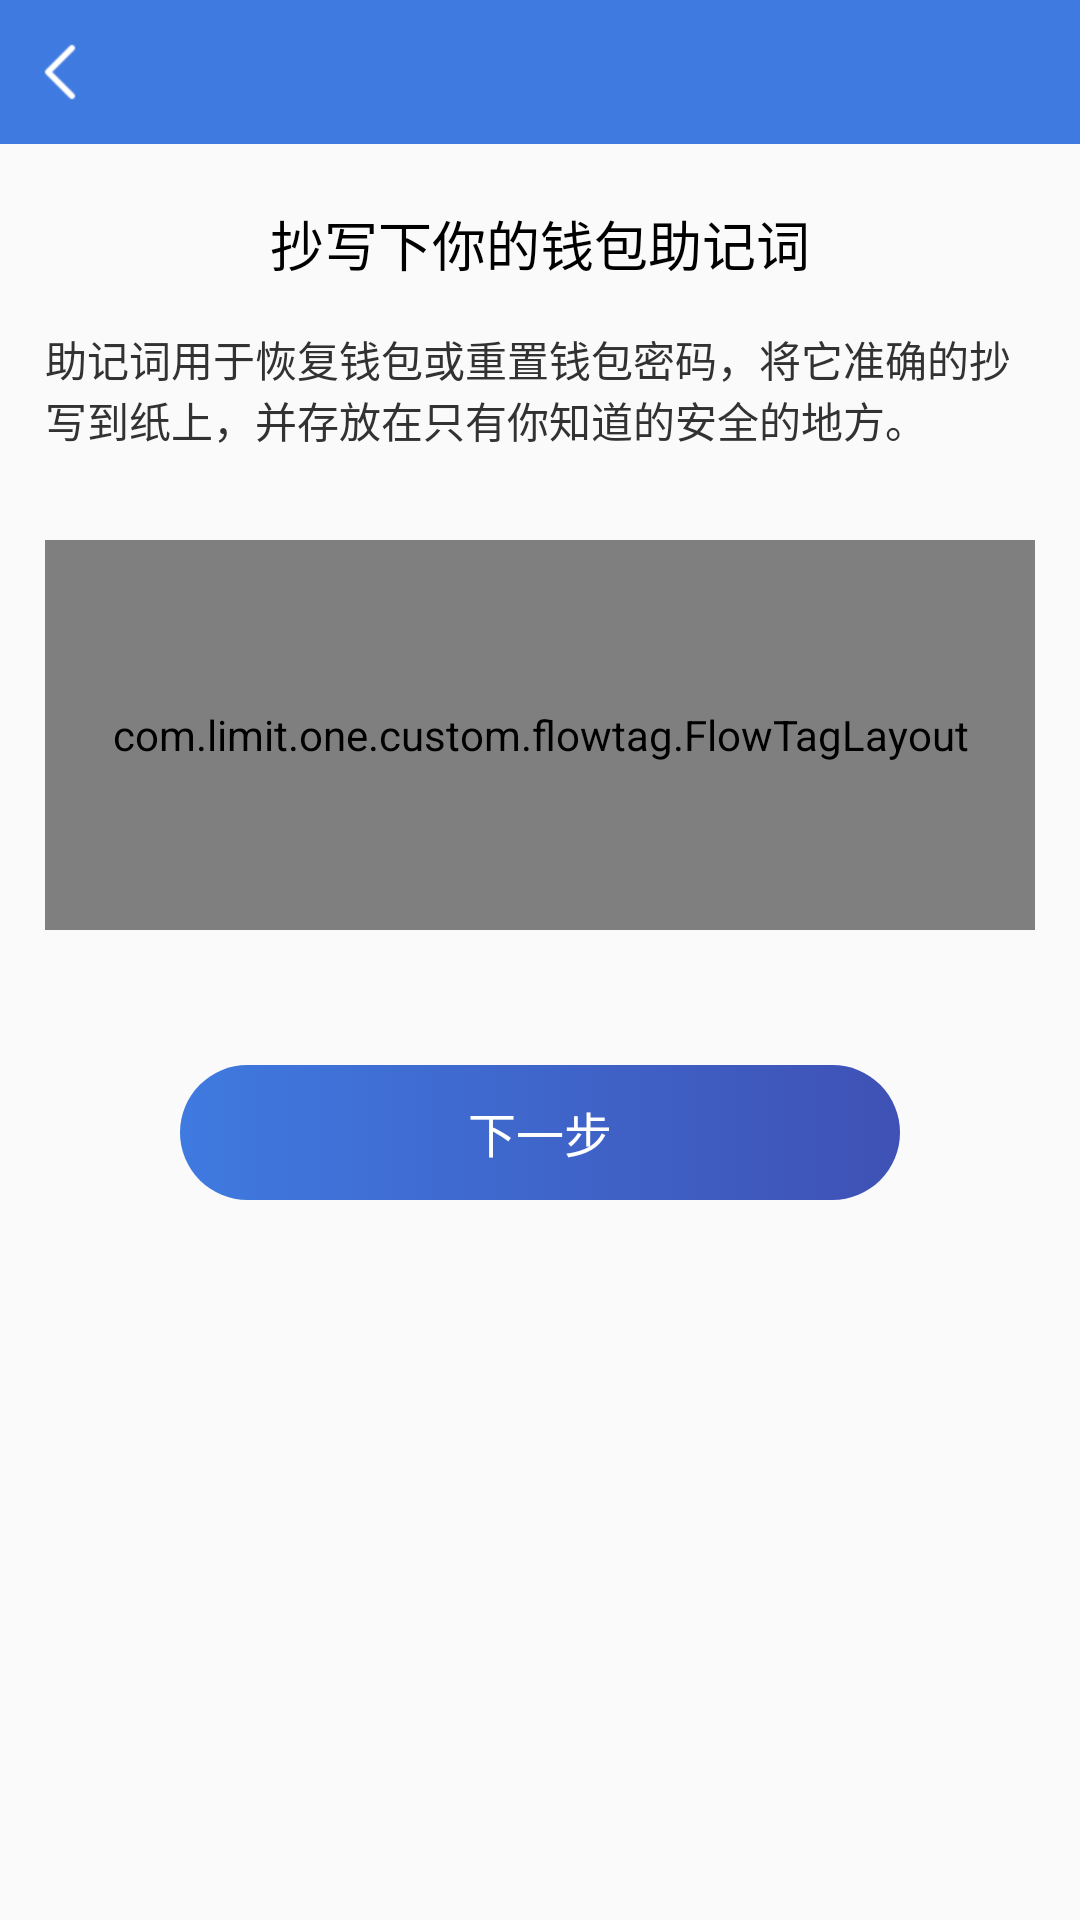

Icons on this 1080 x 1920 Android screen, each with the point to tap as (x,y):
back: (60,72)
